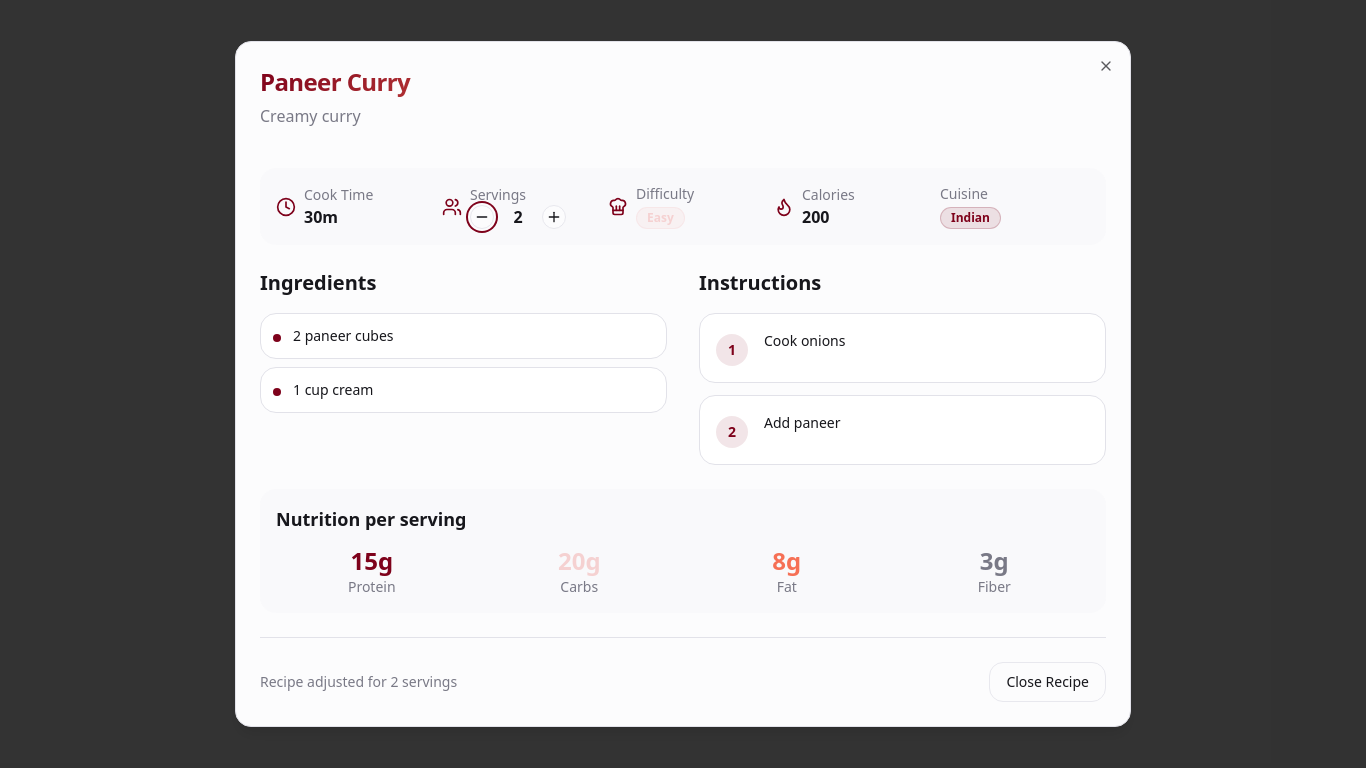
Test case: RecipeModal › adjusts servings and recalculates numeric ingredient amounts
Click the 3rd button: (554, 216) [542,204,566,228]
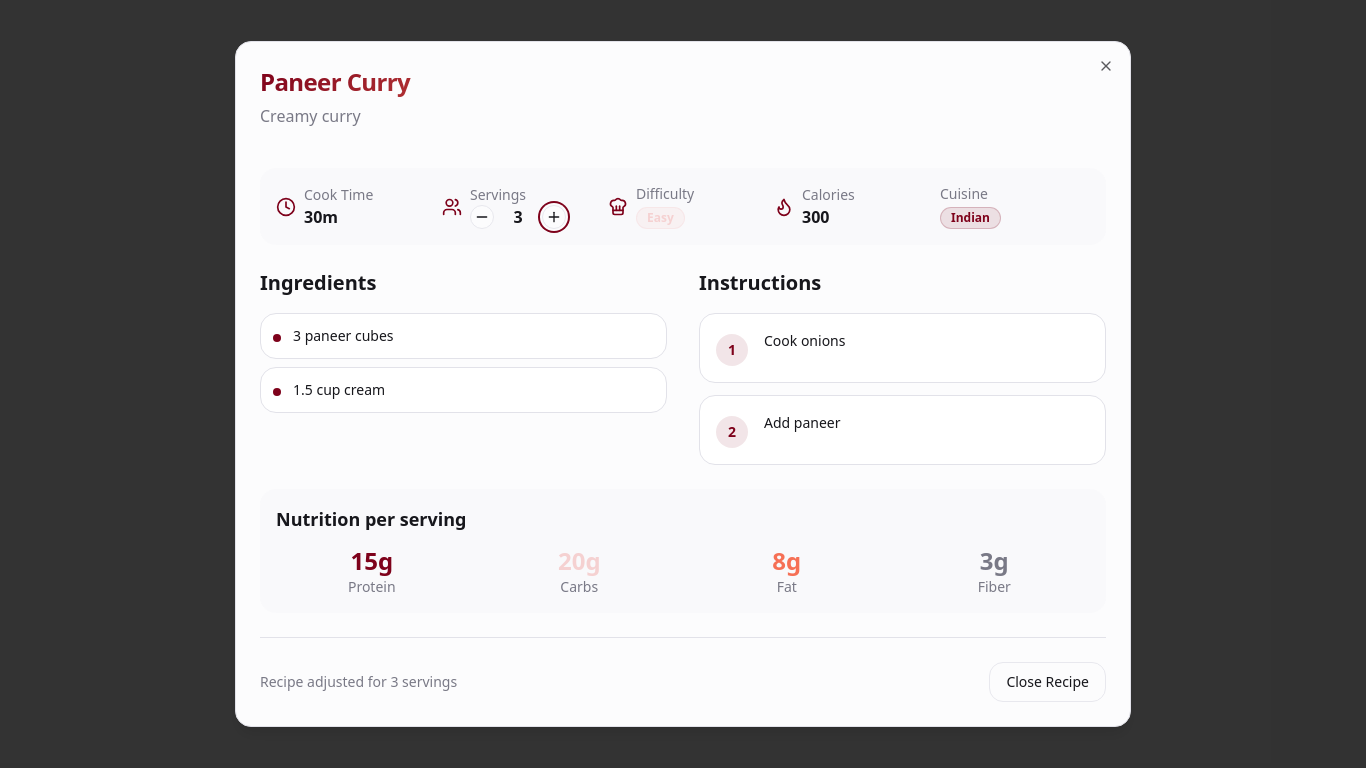
Expected: the text "3" is shown, [513,206,523,228]
Expected: the text "3 paneer cubes" is shown, [293,326,394,346]
Expected: the text "300" is shown, [802,206,830,228]
